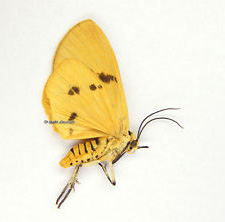Agape chloropyga: (38, 18, 183, 209)
moth: (38, 18, 183, 209)
